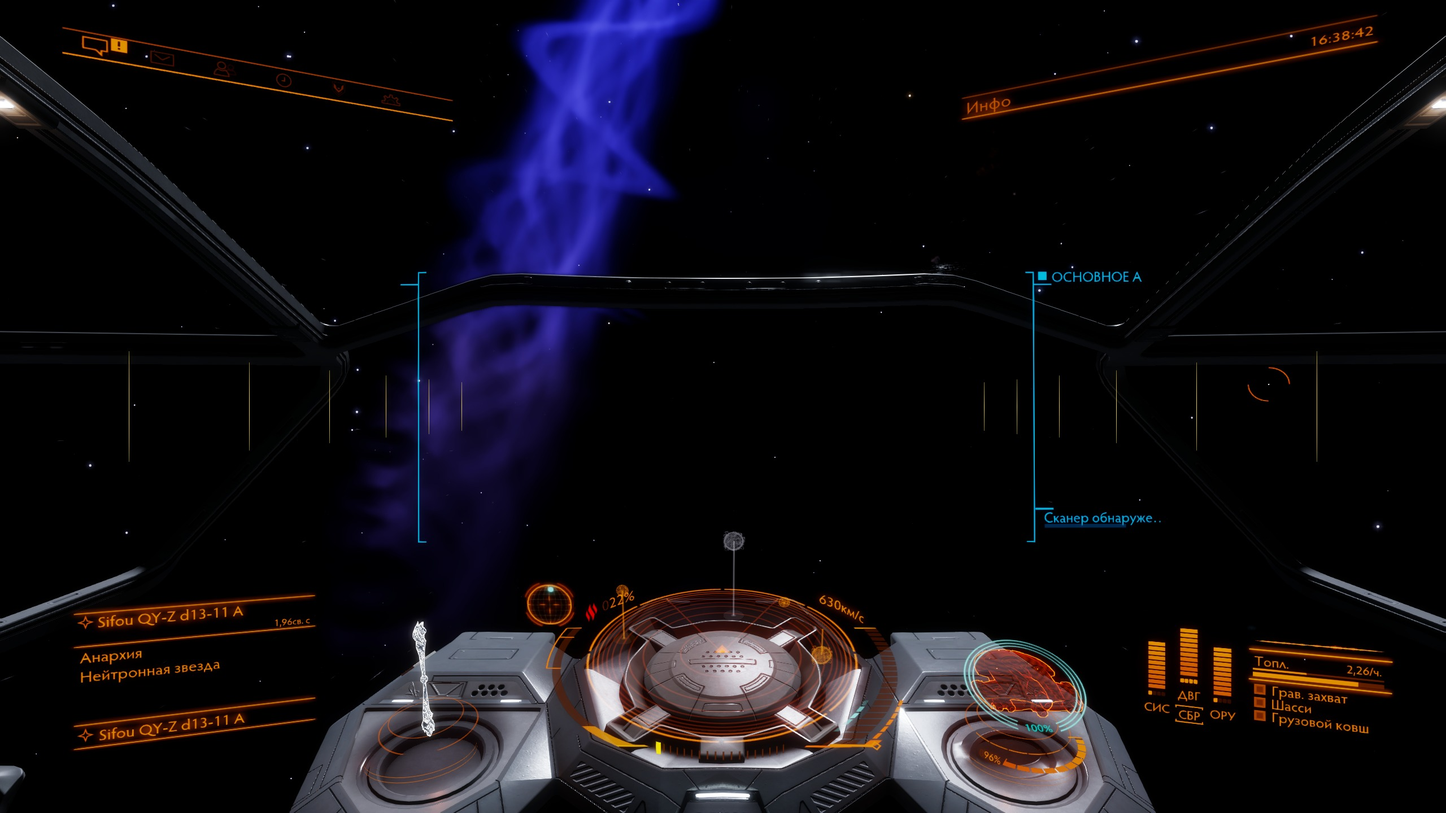core: (288, 529, 1158, 813)
jetcone: (524, 0, 691, 195), (512, 728, 547, 780)
